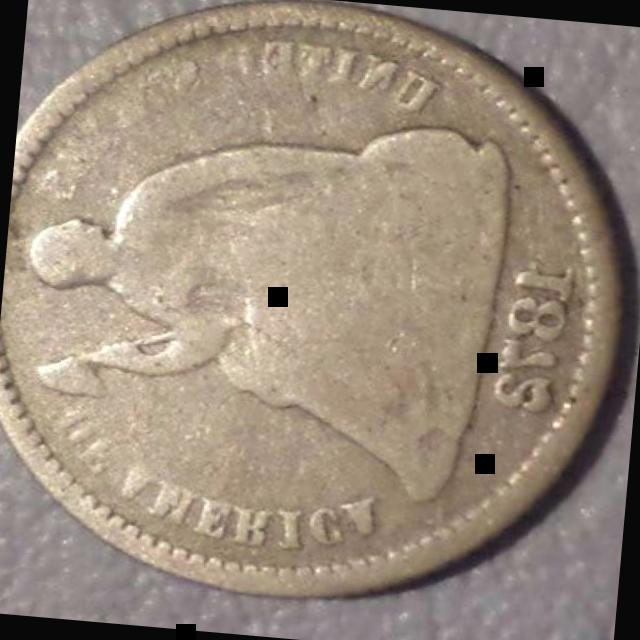Dime: (0, 0, 629, 615)
